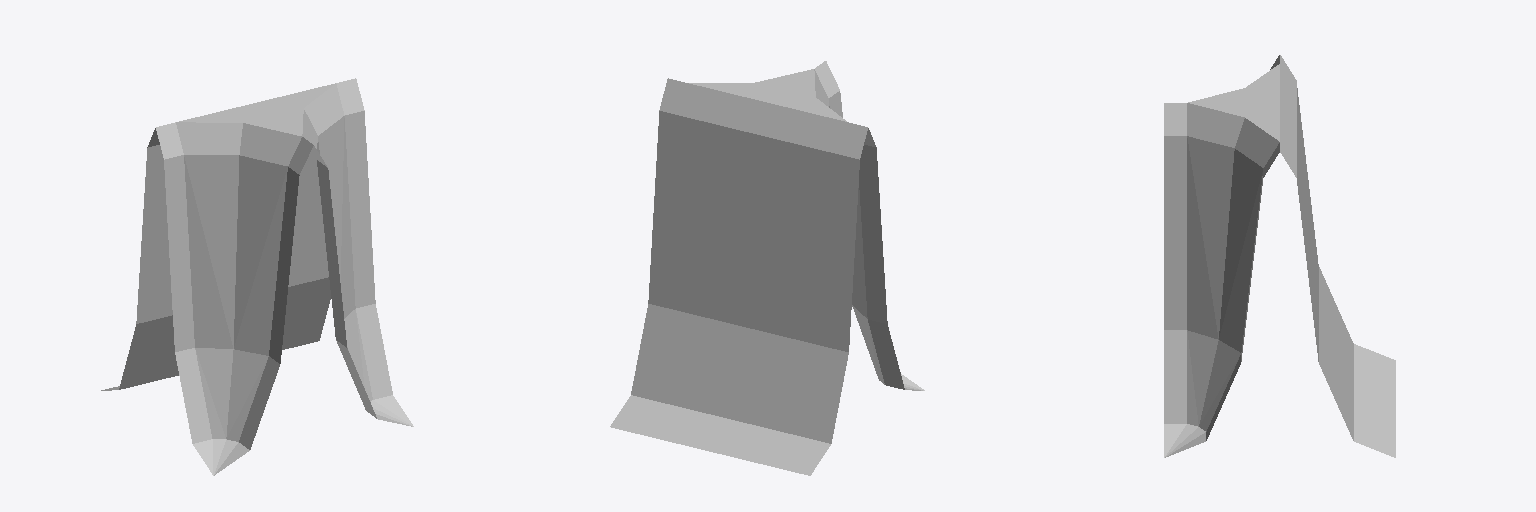
Rendered from wall_07.obj.
3 renders of one model, left to right at view 1: azimuth 30°, elevation 25°; view 2: azimuth 150°, elevation 25°; view 3: azimuth 270°, elevation 25°, orthographic.
Parts seen in each view (by area): view 1: wall_07_Cave_Wall_Inner.018; view 2: wall_07_Cave_Wall_Inner.018; view 3: wall_07_Cave_Wall_Inner.018.
Part boxes in pixels (x1,y1,x2,y2): wall_07_Cave_Wall_Inner.018: (101, 78, 413, 475); wall_07_Cave_Wall_Inner.018: (610, 61, 924, 475); wall_07_Cave_Wall_Inner.018: (1164, 55, 1395, 457).
Size of the model in its own units: 1 by 1.46 by 1.